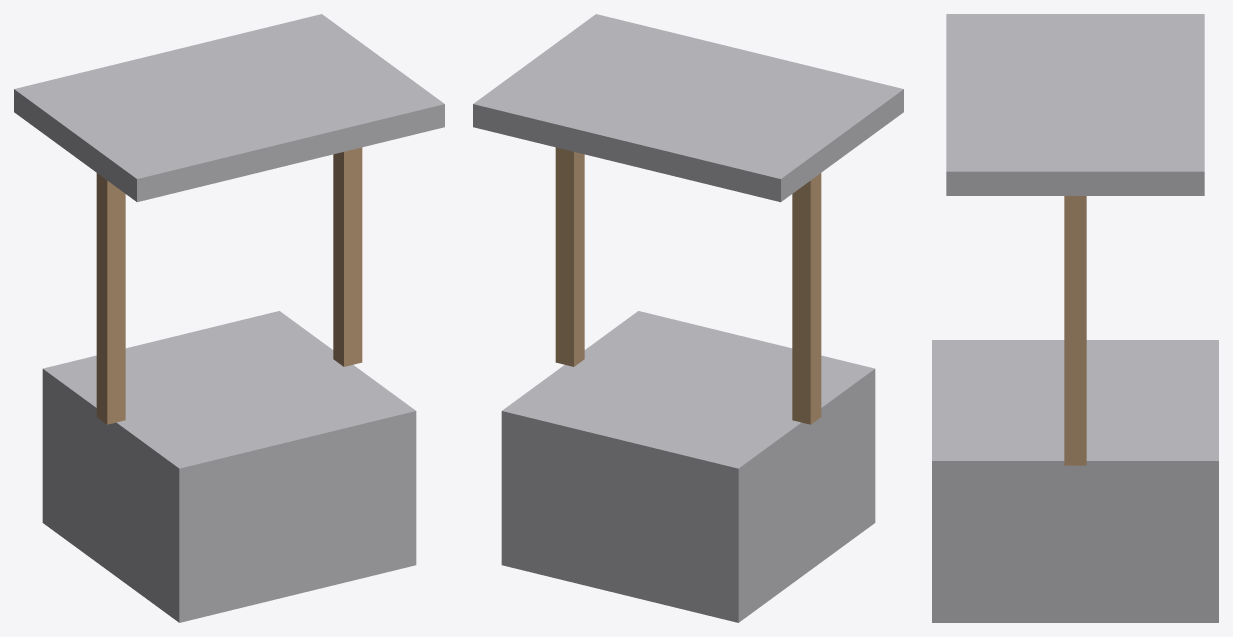
The model's file is Prop_Water_AMF_Well_V4.glb.
3 views of the same model, side by side, from view 1: azimuth 30°, elevation 25°; view 2: azimuth 150°, elevation 25°; view 3: azimuth 270°, elevation 25° (orthographic). The views are drawn at different scales.
Parts seen in each view (by area): view 1: Prop_Water_AMF_Well_V4; view 2: Prop_Water_AMF_Well_V4; view 3: Prop_Water_AMF_Well_V4.
Boxes of the visible parts, left/top/right/bottom form: Prop_Water_AMF_Well_V4: left=14, top=14, right=444, bottom=622; Prop_Water_AMF_Well_V4: left=473, top=14, right=903, bottom=622; Prop_Water_AMF_Well_V4: left=932, top=14, right=1218, bottom=622.
Size of the model in its own units: 1.67 by 2.32 by 1.28.
